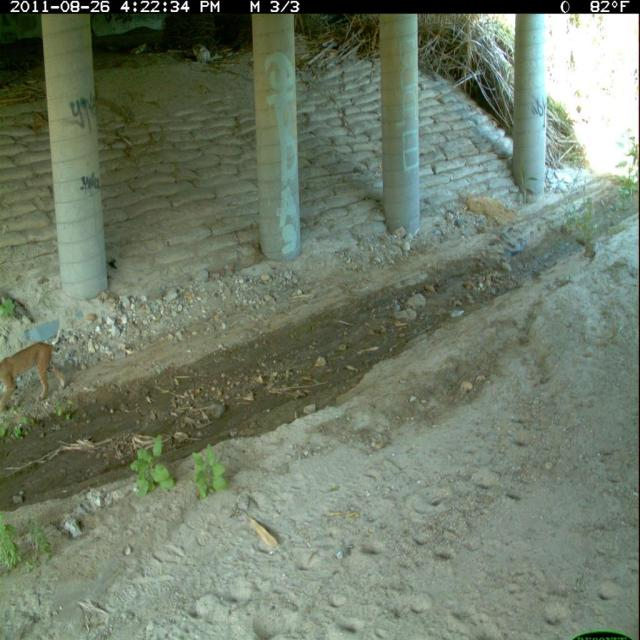bobcat: (1, 339, 70, 417)
